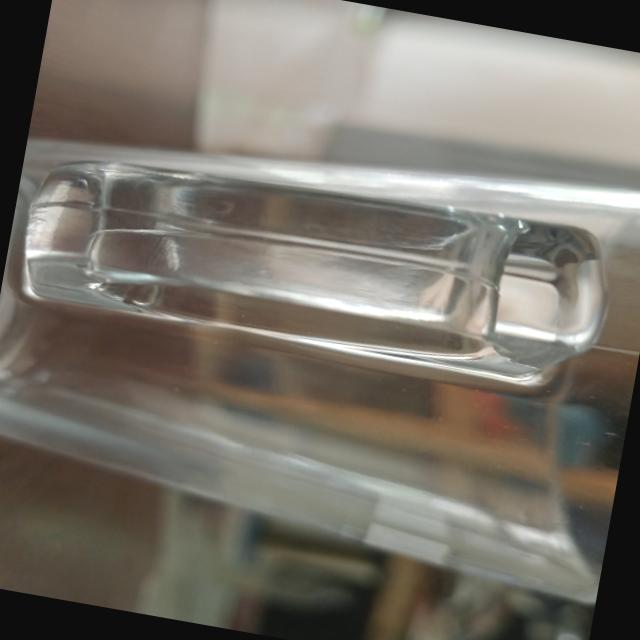glass-VX4N: (0, 62, 640, 610)
